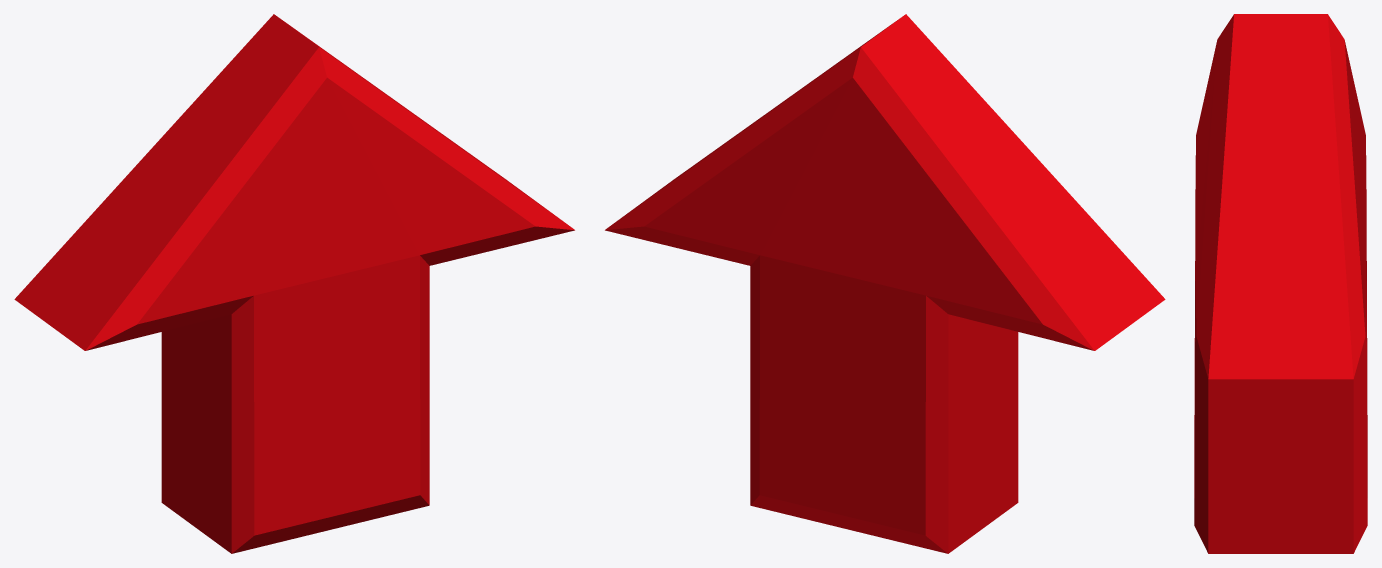
File: arrow.fbx
The picture shows the model from 3 angles, left to right: view 1: azimuth 30°, elevation 25°; view 2: azimuth 150°, elevation 25°; view 3: azimuth 270°, elevation 25°; orthographic projection. The views are drawn at different scales.
Parts seen in each view (by area): view 1: 立方体.131; view 2: 立方体.131; view 3: 立方体.131.
Part boxes in pixels (x1,y1,x2,y2): 立方体.131: (14, 14, 574, 553); 立方体.131: (605, 14, 1165, 553); 立方体.131: (1194, 14, 1367, 553).
Size of the model in its own units: 77.22 by 71.17 by 22.78.
